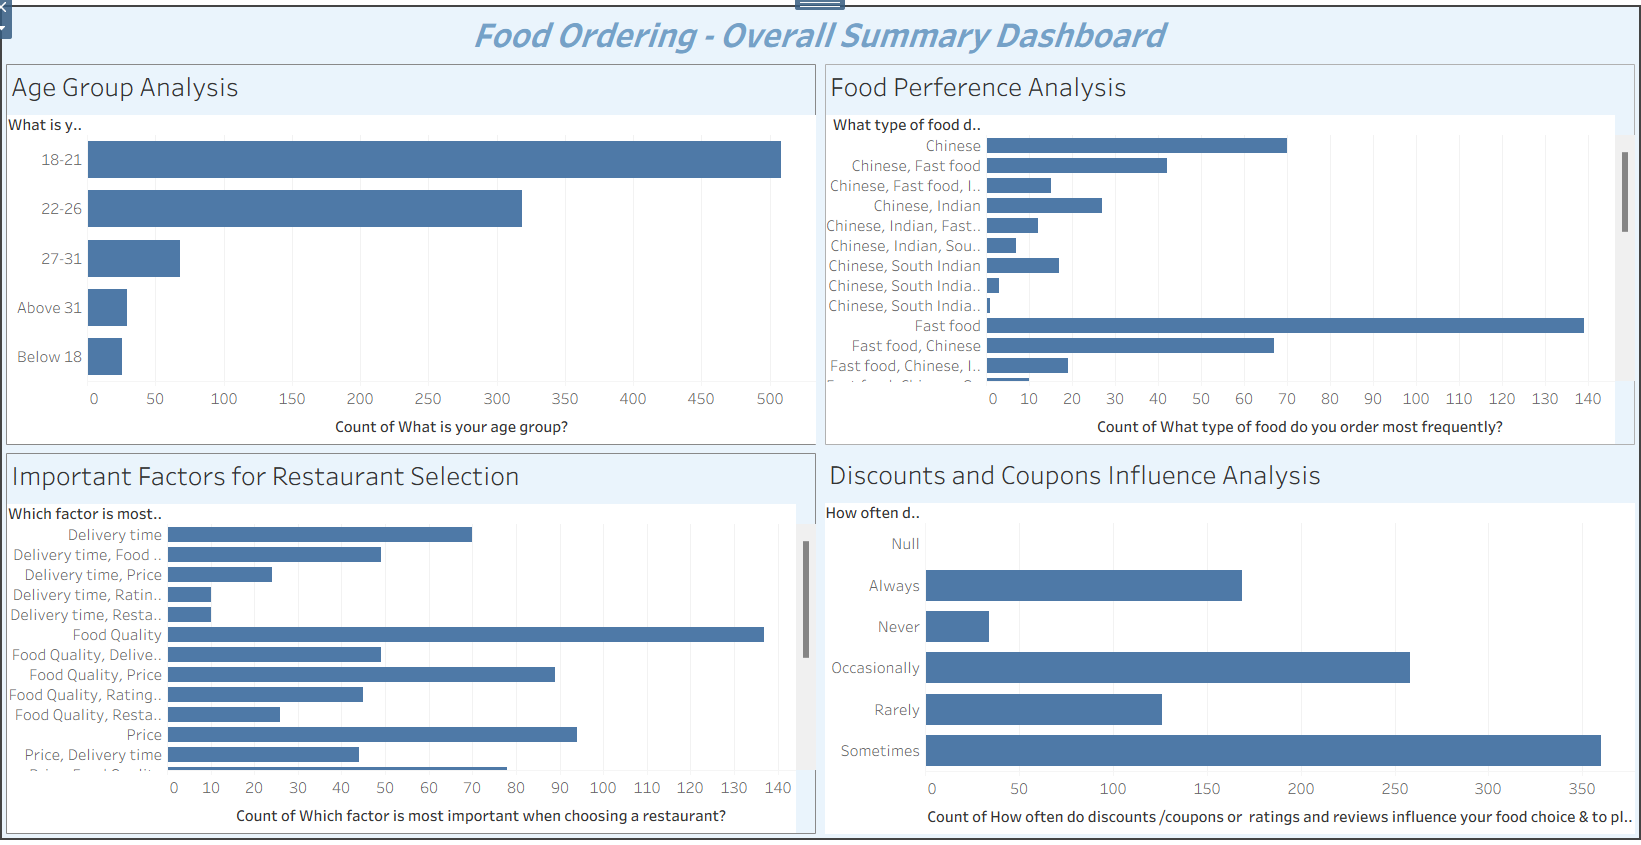

The page's visual inventory and layout, read from the dashboard file:
{"tool":"tableau","page":{"name":"Dashboard 3","canvas":[1000,1000],"units":"permille","ordinal":2},"visuals":[{"type":"title","box":[6,11.8,987.9,62.3]},{"type":"worksheet","title":"Sheet 1","mark":"Automatic","rows":["What is your age group?  "],"cols":["What is your age group?  "],"box":[6,74,494,457.1]},{"type":"worksheet","title":"Sheet 3","mark":"Automatic","rows":["What type of food do you order most frequently?  "],"cols":["What type of food do you order most frequently?  "],"box":[500,74,494,457.1]},{"type":"worksheet","title":"Sheet 6","mark":"Automatic","rows":["Which factor is most important when choosing a restaurant?  "],"cols":["Which factor is most important when choosing a restaurant?  "],"box":[6,531.1,494,457.1]},{"type":"worksheet","title":"Sheet 8","mark":"Automatic","box":[500,531.1,494,457.1]}]}

Visuals, with their boxes on the dashboard's canvas, which has no fixed pixel size, in thousandths of its width and height (x1, y1, x2, y2). These are canvas units, not pixel positions in the 1641x845 screenshot, which may show the page scaled, cropped or inside an application window:
title: (x1=6, y1=12, x2=994, y2=74)
"Sheet 1" worksheet: (x1=6, y1=74, x2=500, y2=531)
"Sheet 3" worksheet: (x1=500, y1=74, x2=994, y2=531)
"Sheet 6" worksheet: (x1=6, y1=531, x2=500, y2=988)
"Sheet 8" worksheet: (x1=500, y1=531, x2=994, y2=988)
